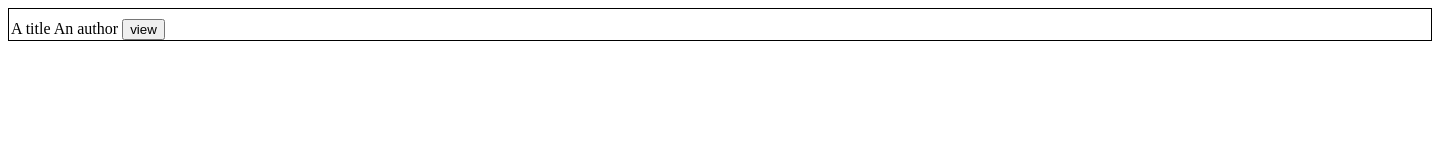
renders URL and likes when the view button is clicked
This screenshot has width=1440, height=160.
Click the button "view" at (143, 30), box [122,19,165,40]
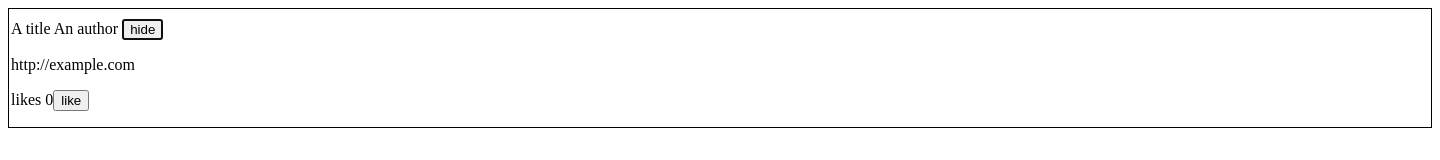
Expected: the element with class "blog" shows "A title", [11,20,51,37]
Result: the element with class "blog" shows "http://example.com" at [11,56,135,73]
Result: the element with class "blog" shows "likes 0"
